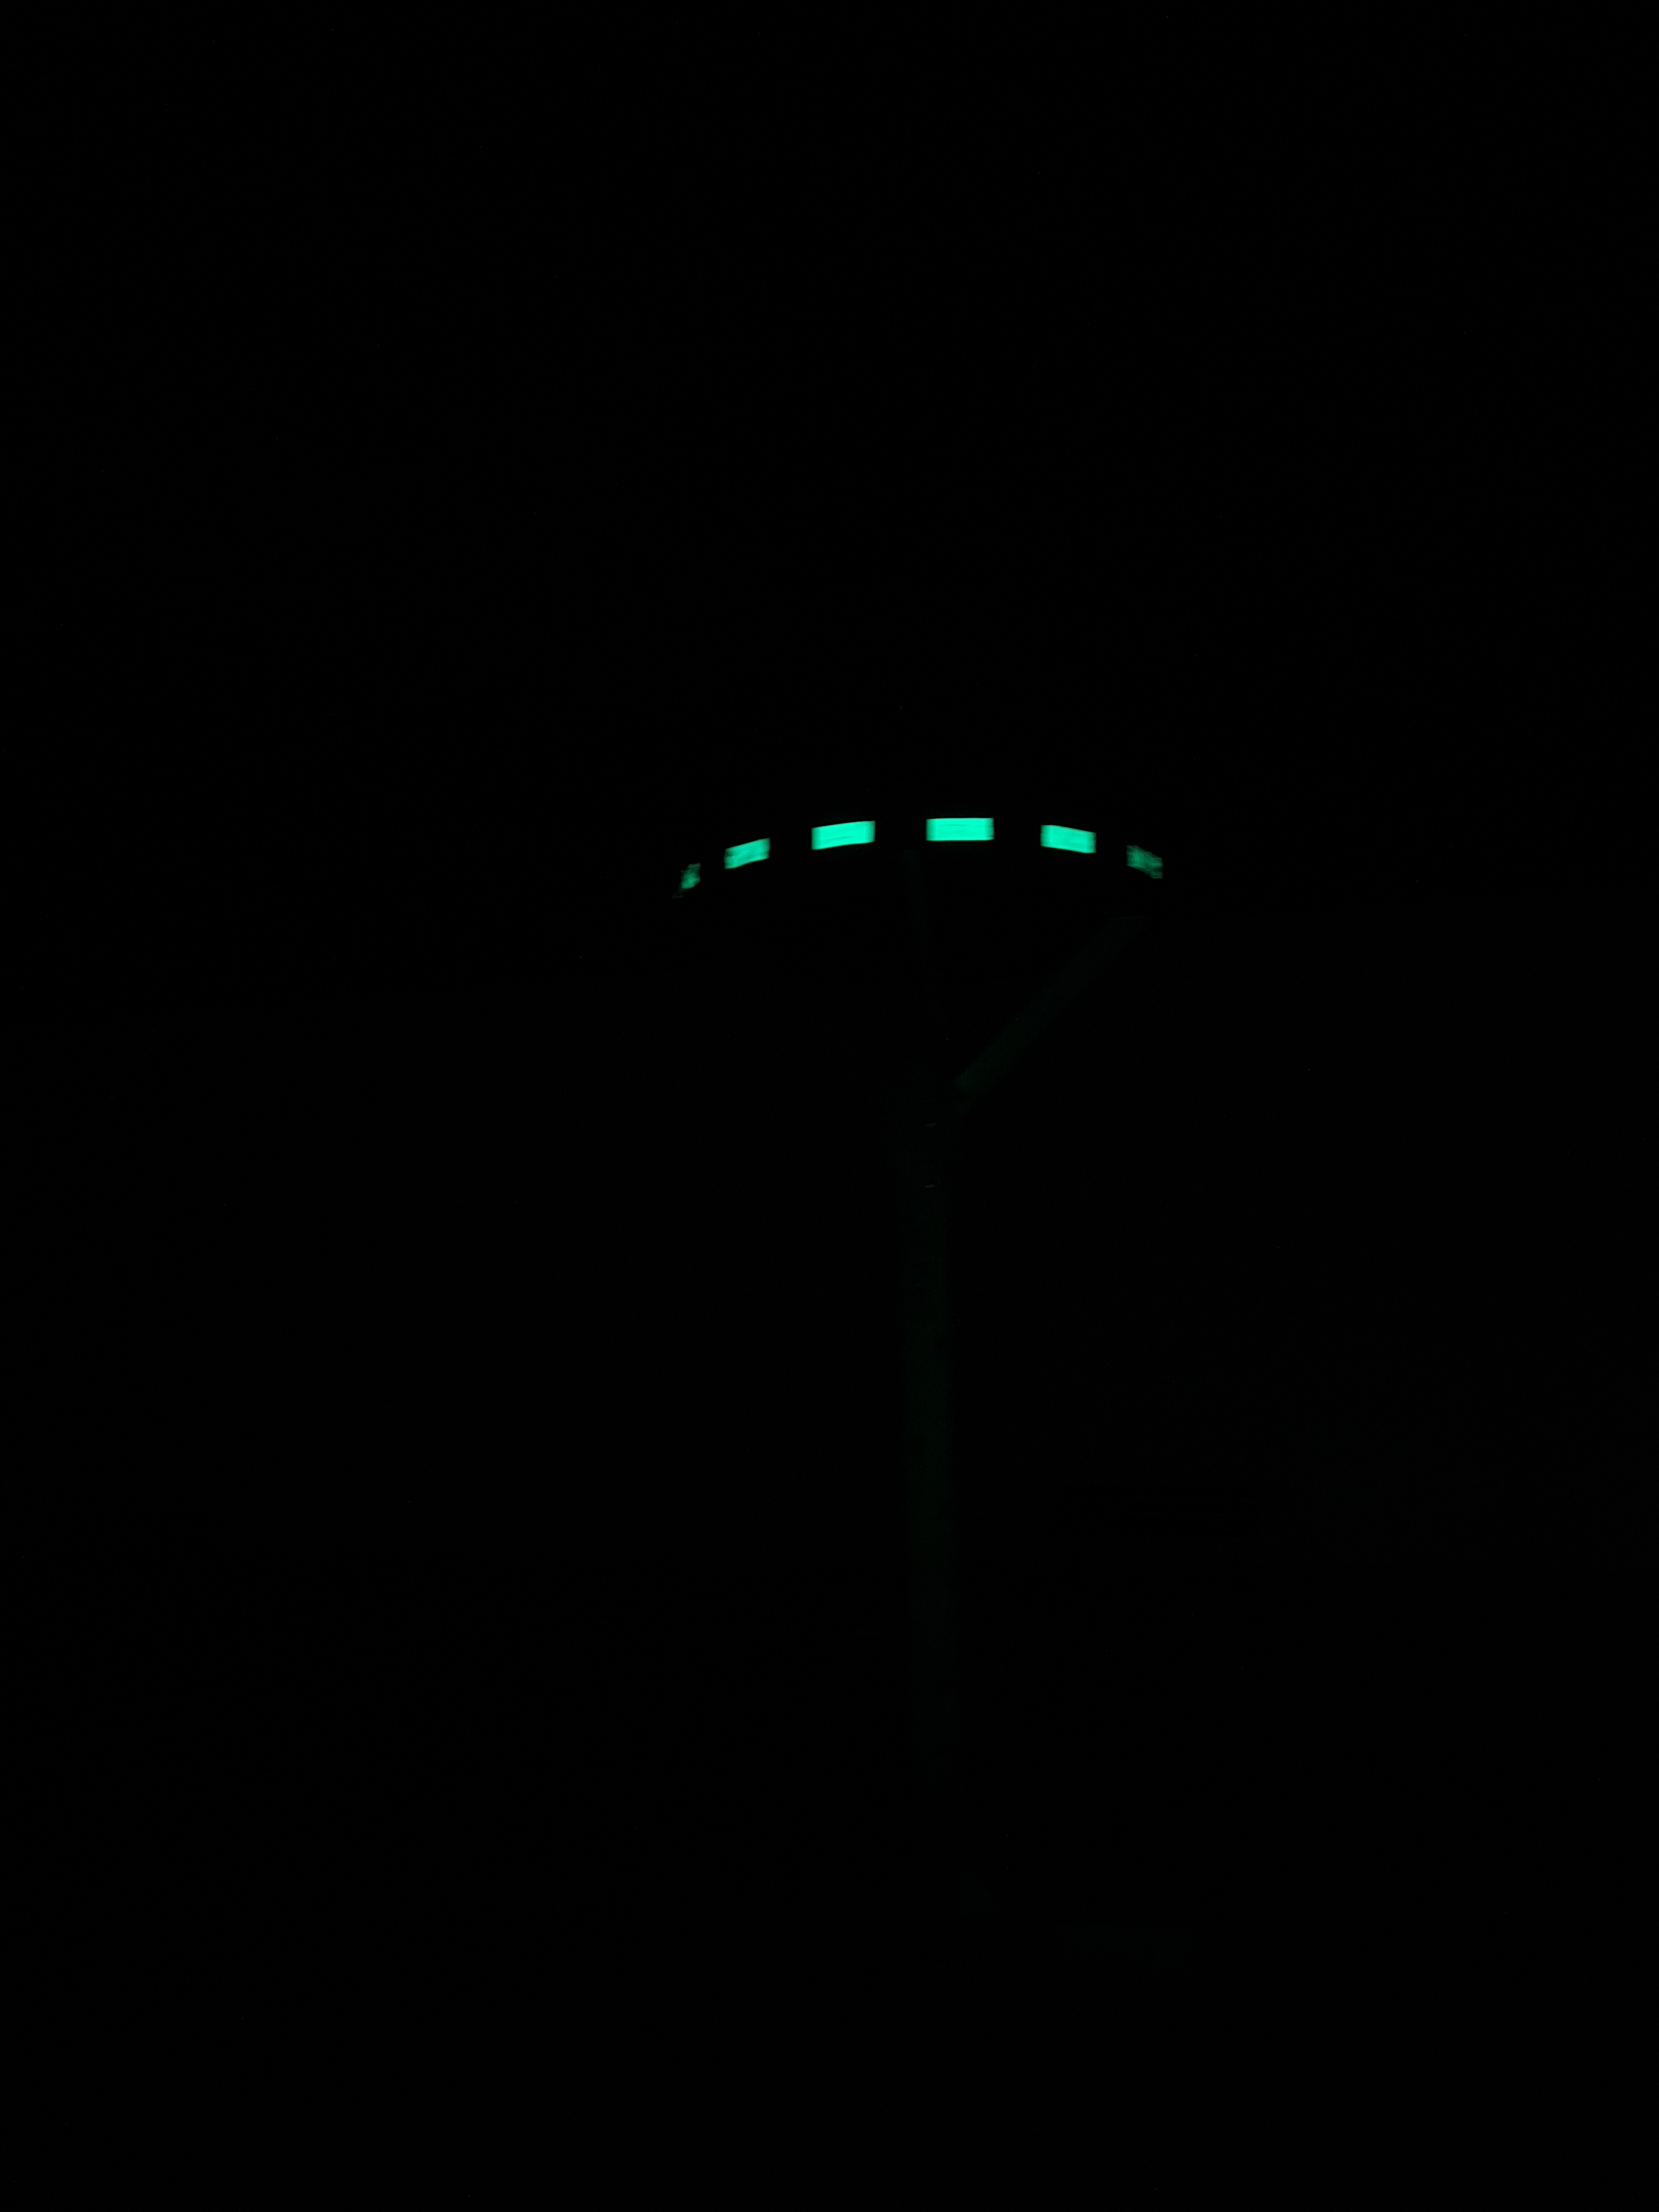hoop: (660, 803, 1178, 914)
